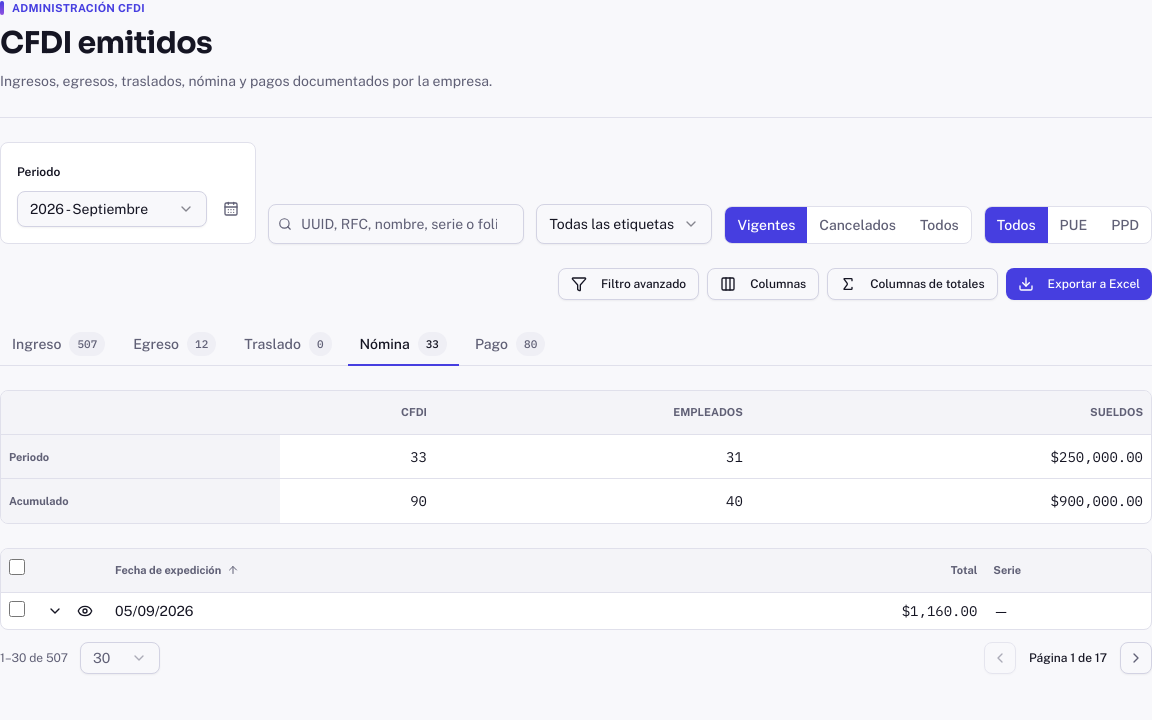
Test: CfdiPantalla › Nómina y Pago (F3.5b) › la pestaña de Nómina muestra las cifras que manda el servidor y su editor de totales las lista
expect the text "31" is shown: met, box top-left (435, 434), bottom-right (751, 478)
expect the column heading "Empleados" is shown: met, box top-left (435, 390), bottom-right (751, 434)
Click the button "Columnas de totales" at (912, 284), box top-left (827, 268), bottom-right (998, 300)
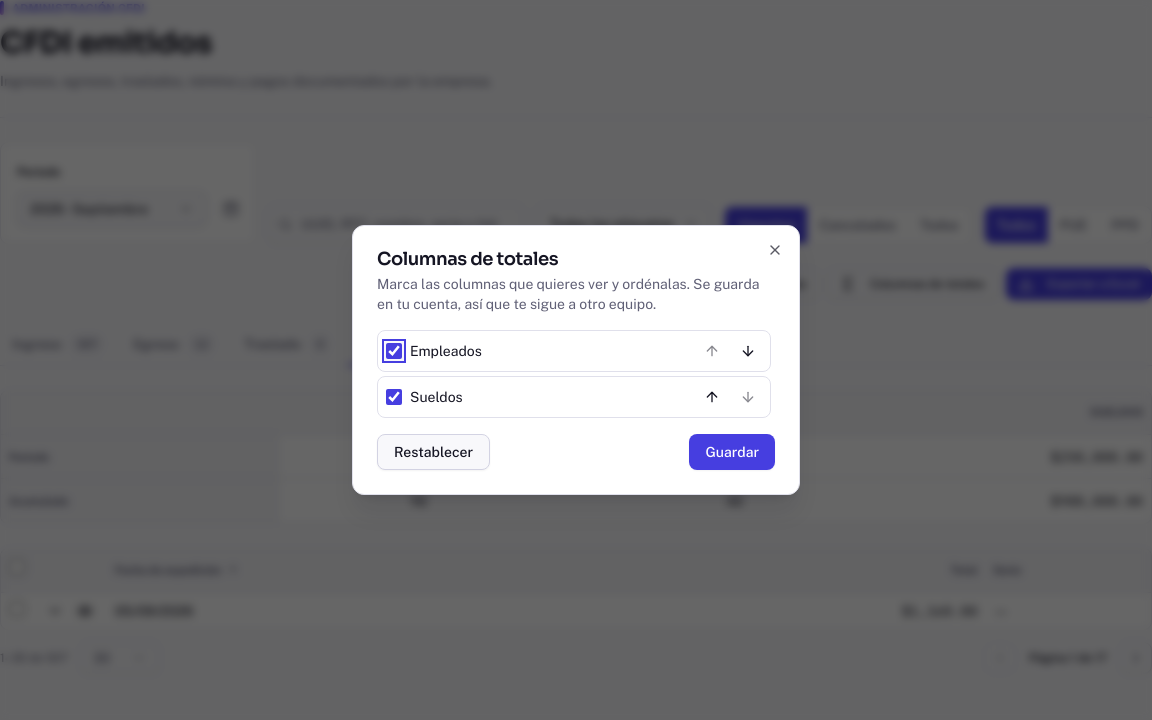
expect the checkbox labelled "Sueldos" is shown: met, box top-left (386, 389), bottom-right (402, 405)
